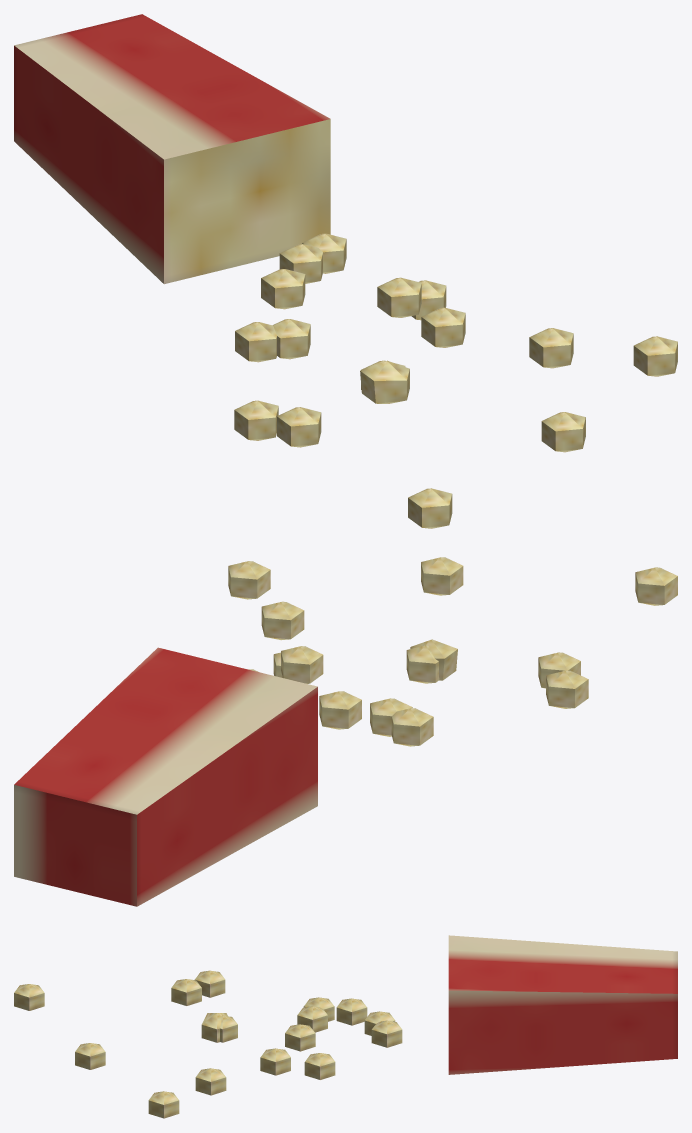
File: popcorn_spilled.obj
3 renders of one model, top to bottom at view 1: azimuth 30°, elevation 25°; view 2: azimuth 150°, elevation 25°; view 3: azimuth 270°, elevation 25°, orthographic. The views are drawn at different scales.
Visible parts, largest first — view 1: popcorn_spilled; view 2: popcorn_spilled; view 3: popcorn_spilled.
Part boxes in pixels (x1,y1,x2,y2): popcorn_spilled: (14,14,677,528); popcorn_spilled: (14,557,677,906); popcorn_spilled: (14,935,677,1118).
Size of the model in its own units: 0.2197 by 0.0689 by 0.4633.
1 material, 1 textured.
